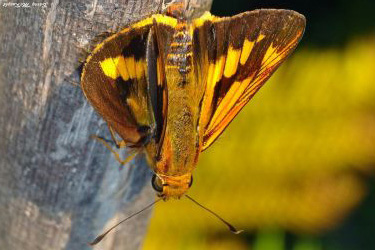Agape chloropyga: (77, 7, 308, 243)
moth: (79, 9, 310, 245)
